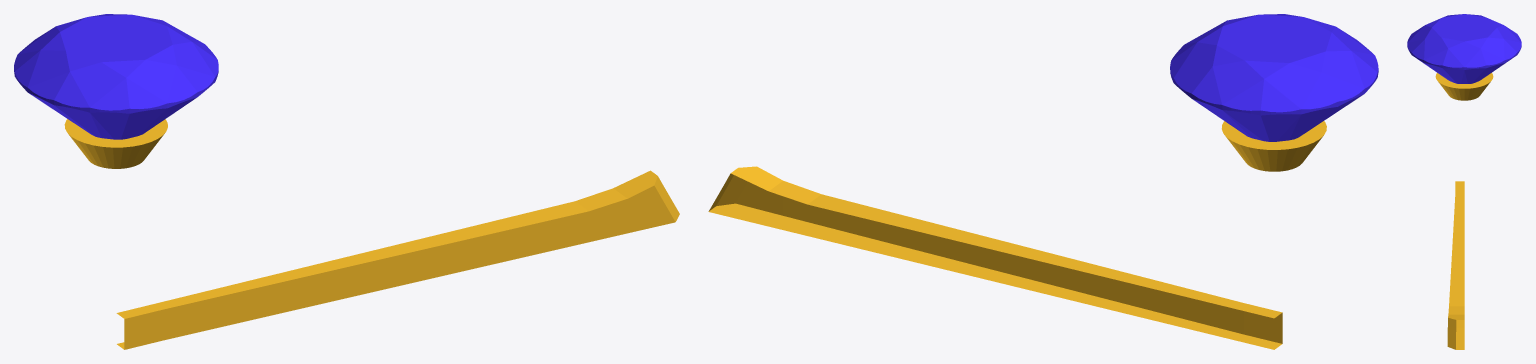
Rendered from Ring.glb.
The picture shows the model from 3 angles, left to right: view 1: azimuth 30°, elevation 25°; view 2: azimuth 150°, elevation 25°; view 3: azimuth 270°, elevation 25°; orthographic projection. The views are drawn at different scales.
Visible parts, largest first — view 1: Plane, Round, Circle; view 2: Plane, Round, Circle; view 3: Round, Plane, Circle.
Part boxes in pixels (<box>): Plane: <box>116,170,679,349</box>; Round: <box>14,14,218,139</box>; Circle: <box>64,119,167,168</box>; Plane: <box>708,166,1282,349</box>; Round: <box>1170,14,1378,141</box>; Circle: <box>1221,121,1326,171</box>; Round: <box>1407,14,1521,83</box>; Plane: <box>1447,181,1464,349</box>; Circle: <box>1435,73,1493,100</box>.
Bounding box in the file's own units: 32.7 × 14.82 × 9.
